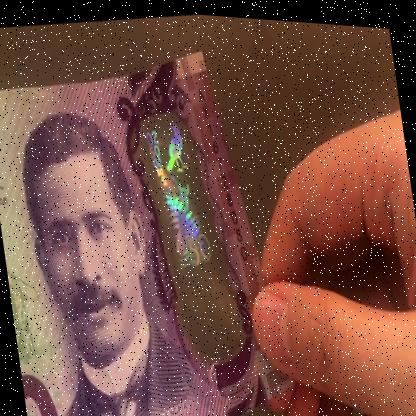50F: (139, 114, 233, 340)
